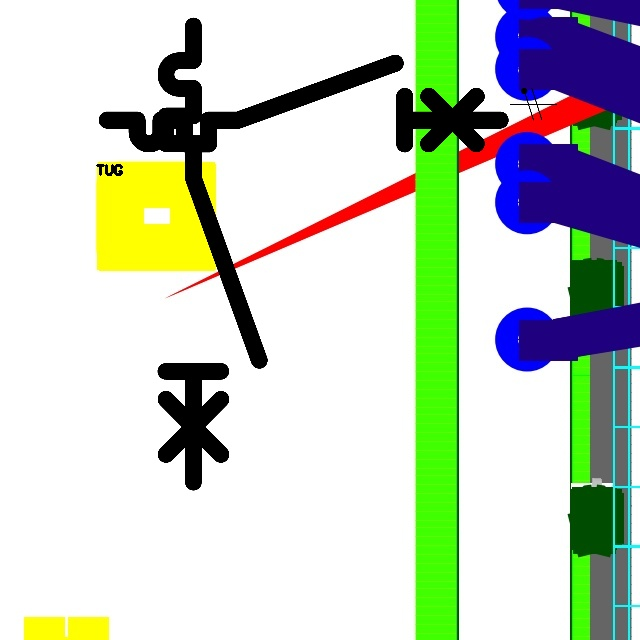interruptor_termomagnetico: (154, 14, 271, 493), (97, 53, 510, 154)
